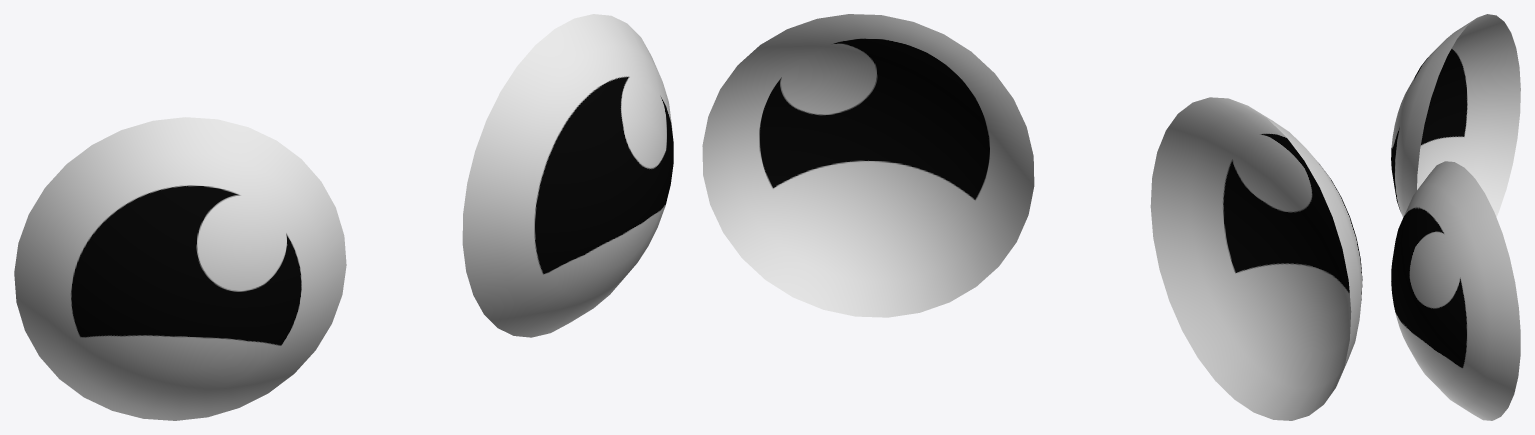
File: Eyes_3.fbx
3 renders of one model, left to right at view 1: azimuth 30°, elevation 25°; view 2: azimuth 150°, elevation 25°; view 3: azimuth 270°, elevation 25°, orthographic. The views are drawn at different scales.
Visible parts, largest first — view 1: Eyes_3; view 2: Eyes_3; view 3: Eyes_3.
Boxes of the visible parts, left/top/right/bottom form: Eyes_3: left=14, top=14, right=673, bottom=420; Eyes_3: left=702, top=14, right=1362, bottom=420; Eyes_3: left=1391, top=14, right=1520, bottom=420.
Size of the model in its own units: 34.82 by 15.58 by 7.66.
